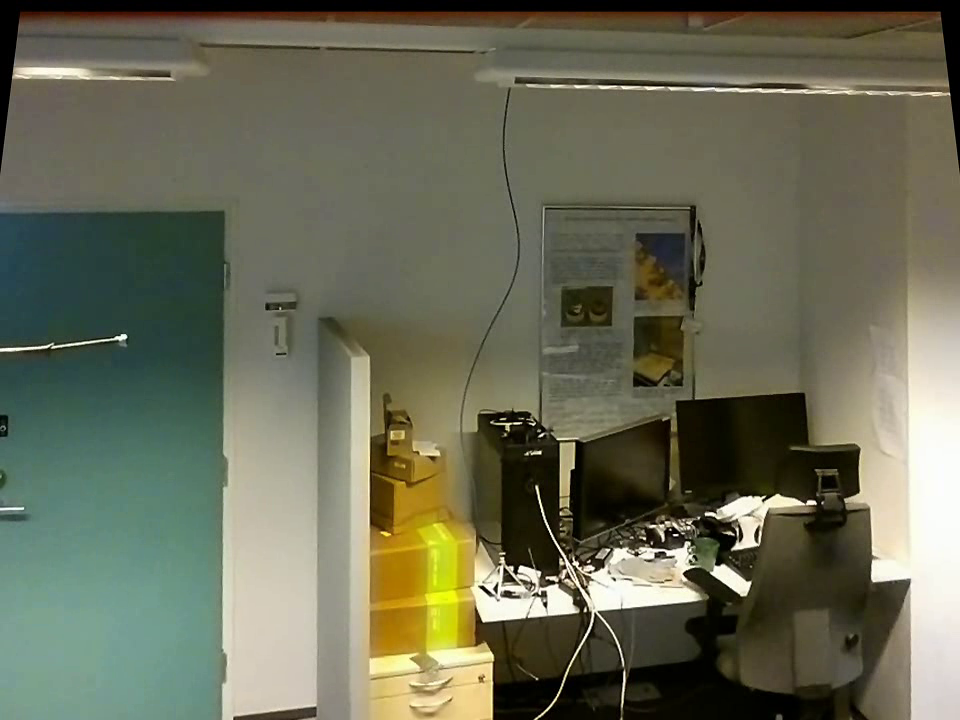branch: (2, 323, 113, 364)
